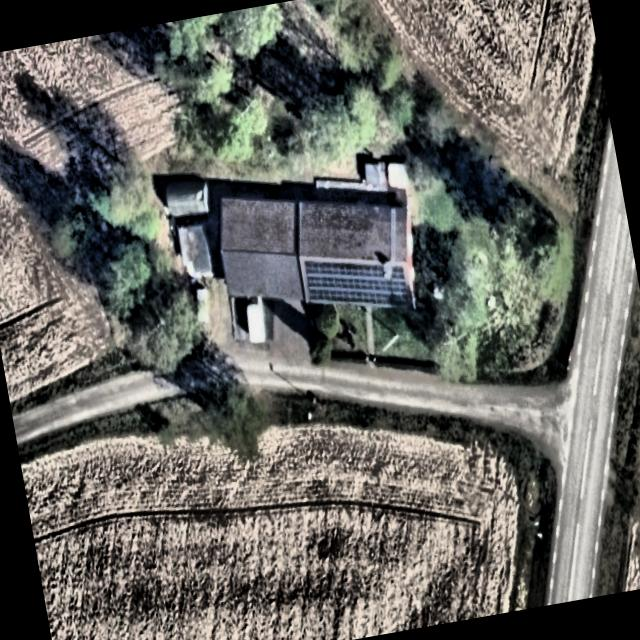roof_pv: (299, 240, 414, 324)
